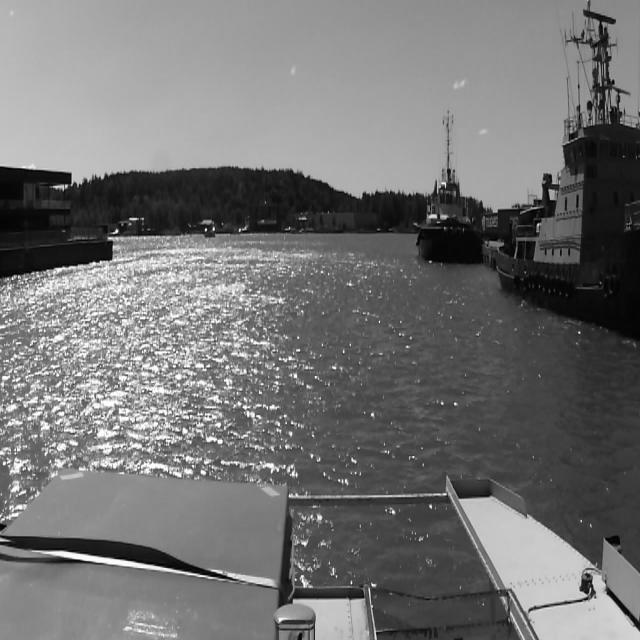ship: (498, 111, 640, 325), (413, 109, 485, 265), (204, 226, 214, 237)
